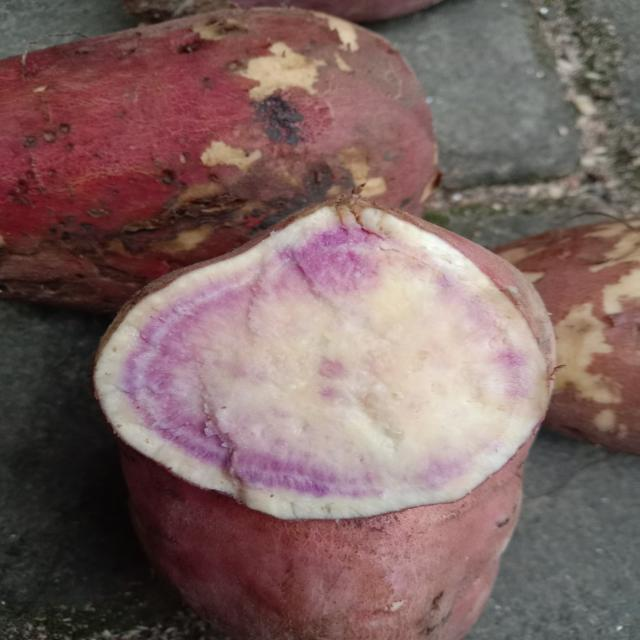Healthy Sweet Potato: (95, 196, 555, 519)
